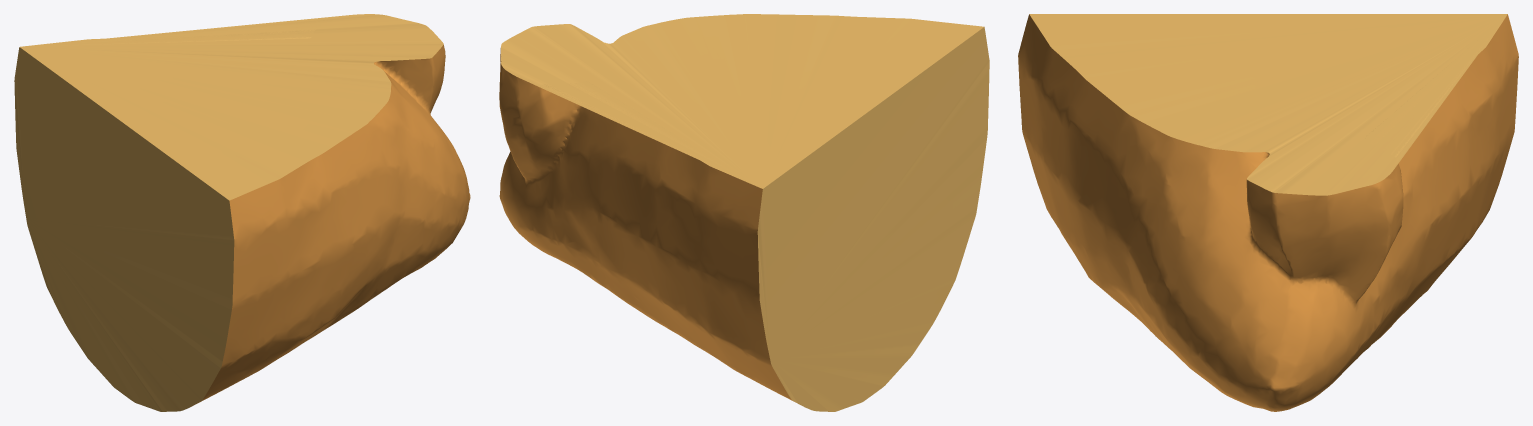
The model's file is Saltena_Piece_05.fbx.
The picture shows the model from 3 angles, left to right: view 1: azimuth 30°, elevation 25°; view 2: azimuth 150°, elevation 25°; view 3: azimuth 270°, elevation 25°; orthographic projection. The views are drawn at different scales.
Parts seen in each view (by area): view 1: Saltena_Piece_05; view 2: Saltena_Piece_05; view 3: Saltena_Piece_05.
Part boxes in pixels (<box>): Saltena_Piece_05: <box>14,14,470,411</box>; Saltena_Piece_05: <box>499,14,989,411</box>; Saltena_Piece_05: <box>1018,14,1518,411</box>.
Size of the model in its own units: 48.33 by 36.07 by 52.93.
